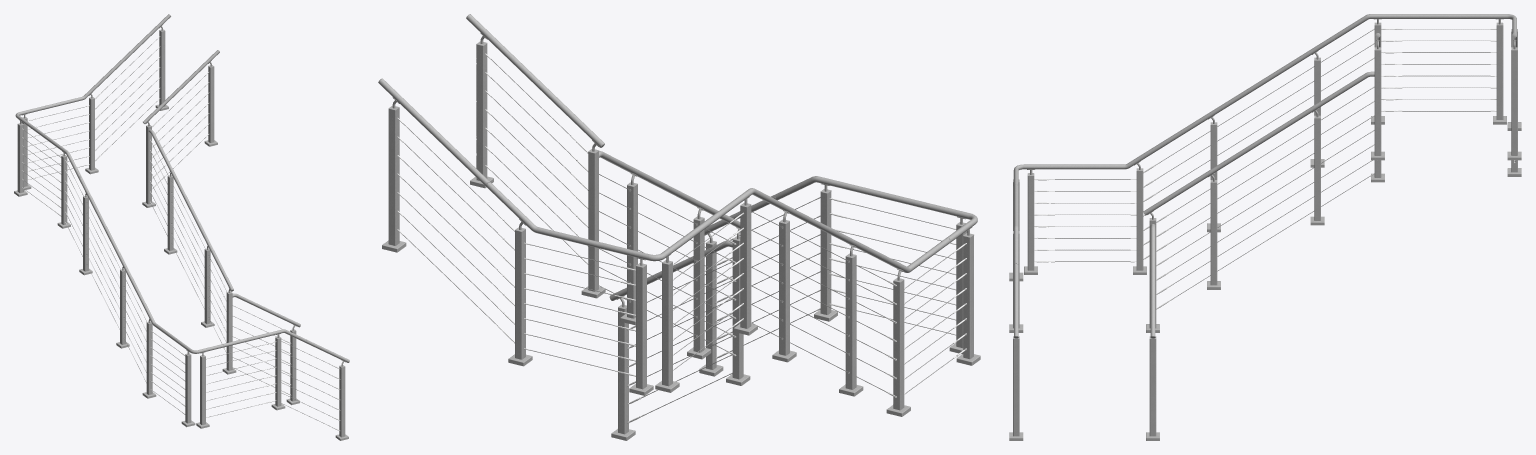
The model's file is U-Shaped_Railing_Koto_Square.gltf.
The picture shows the model from 3 angles, left to right: view 1: azimuth 30°, elevation 25°; view 2: azimuth 150°, elevation 25°; view 3: azimuth 270°, elevation 25°; orthographic projection. The views are drawn at different scales.
Visible parts, largest first — view 1: LS208 & LS209 - Circum Square Post Material LS Material [893 (×17), Nested_Bend Bend [8719267]001, Nested_Rail LS Material [8719249], Nested_Rail LS Material [8461322], Nested_Bend Bend [8719267]003; view 2: LS208 & LS209 - Circum Square Post Material LS Material [893 (×18), Nested_Rail LS Material [8461322], Nested_Bend Bend [8719267]003, Nested_Bend Bend [8719267]001, Nested_Rail LS Material [8719226], Nested_Bend Bend [8719259], Nested_Rail LS Material [8719249], Nested_Bend Bend [8719267], Nested_Bend Bend_1, Nested_Bend Bend [8719267]004, Nested_Bend Bend_002; view 3: LS208 & LS209 - Circum Square Post Material LS Material [893 (×9), Nested_Bend Bend [8719267]001, Nested_Rail LS Material [8719249], Nested_Bend Bend [8719267], Nested_Bend Bend [8719267]004, Nested_Bend Bend [8719259]001.
Part boxes in pixels (bbox=[...]): LS208 & LS209 - Circum Square Post Material LS Material [893 (×17): bbox=[17, 31, 345, 437]; Nested_Bend Bend [8719267]001: bbox=[148, 129, 233, 290]; Nested_Rail LS Material [8719249]: bbox=[78, 177, 140, 293]; Nested_Rail LS Material [8461322]: bbox=[143, 50, 219, 123]; Nested_Bend Bend [8719267]003: bbox=[223, 329, 306, 347]; LS208 & LS209 - Circum Square Post Material LS Material [893 (×18): bbox=[388, 44, 973, 434]; Nested_Rail LS Material [8461322]: bbox=[466, 14, 604, 147]; Nested_Bend Bend [8719267]003: bbox=[775, 176, 925, 208]; Nested_Bend Bend [8719267]001: bbox=[599, 151, 740, 227]; Nested_Rail LS Material [8719226]: bbox=[378, 78, 489, 185]; Nested_Bend Bend [8719259]: bbox=[486, 182, 604, 249]; Nested_Rail LS Material [8719249]: bbox=[774, 200, 882, 259]; Nested_Bend Bend [8719267]: bbox=[687, 188, 776, 238]; Nested_Bend Bend_1: bbox=[604, 235, 690, 261]; Nested_Bend Bend [8719267]004: bbox=[610, 240, 732, 300]; Nested_Bend Bend_002: bbox=[925, 203, 977, 242]; LS208 & LS209 - Circum Square Post Material LS Material [893 (×9): bbox=[1013, 26, 1517, 436]; Nested_Bend Bend [8719267]001: bbox=[1143, 71, 1374, 215]; Nested_Rail LS Material [8719249]: bbox=[1168, 36, 1334, 142]; Nested_Bend Bend [8719267]: bbox=[1332, 14, 1467, 39]; Nested_Bend Bend [8719267]004: bbox=[1150, 224, 1155, 336]; Nested_Bend Bend [8719259]001: bbox=[1064, 139, 1169, 169].
Bounding box in the file's own units: 1.99 × 3.48 × 3.95.
